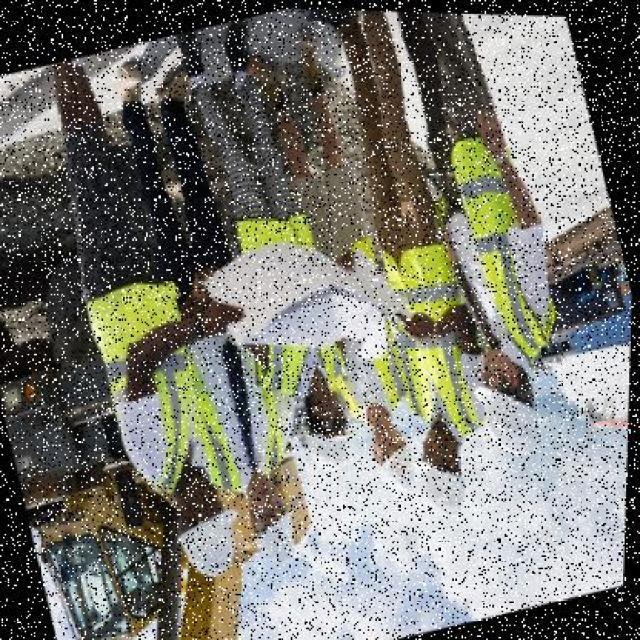helmet: (471, 355, 557, 461), (171, 500, 255, 585), (408, 437, 480, 523), (295, 407, 363, 476), (245, 497, 311, 565), (371, 432, 423, 494)
vest: (399, 111, 571, 375), (66, 237, 220, 483), (359, 211, 500, 448)
